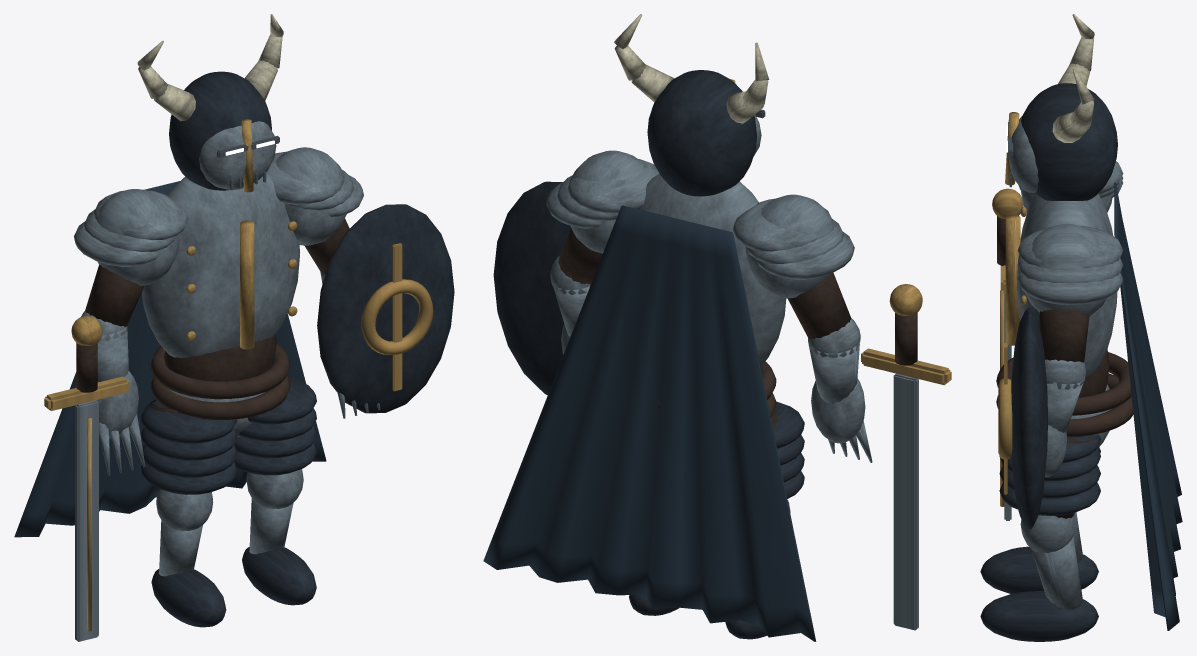
The model's file is enemy_frost_guardian.glb.
The picture shows the model from 3 angles, left to right: view 1: azimuth 30°, elevation 25°; view 2: azimuth 150°, elevation 25°; view 3: azimuth 270°, elevation 25°; orthographic projection. The views are drawn at different scales.
Visible parts, largest first — view 1: Weathered_blue_steel, Forged_black_iron.003, Weathered_blue_steel.002, Woven_midnight_wool, Forged_black_iron, Oiled_leather, Forged_black_iron.001, Antique_brass.002, Weathered_blue_steel.004, Forged_black_iron.002, Weathered_blue_steel.006, Weathered_blue_steel.001 (+8 smaller); view 2: Woven_midnight_wool, Weathered_blue_steel.002, Forged_black_iron.003, Forged_black_iron.002, Weathered_blue_steel.004, Weathered_blue_steel.006, Weathered_blue_steel, Aged_bone, Forged_black_iron, Oiled_leather.002, Antique_brass.002, Oiled_leather.004 (+1 smaller); view 3: Weathered_blue_steel.004, Woven_midnight_wool, Forged_black_iron.001, Forged_black_iron.002, Forged_black_iron.003, Weathered_blue_steel, Oiled_leather, Weathered_blue_steel.003, Antique_brass.002, Forged_black_iron, Aged_bone, Oiled_leather.004 (+6 smaller).
Part boxes in pixels (bbox=[...]): Weathered_blue_steel: bbox=[142, 173, 299, 437]; Forged_black_iron.003: bbox=[317, 204, 454, 413]; Weathered_blue_steel.002: bbox=[74, 189, 188, 475]; Woven_midnight_wool: bbox=[14, 181, 326, 537]; Forged_black_iron: bbox=[140, 400, 237, 627]; Oiled_leather: bbox=[150, 335, 290, 419]; Forged_black_iron.001: bbox=[234, 377, 316, 605]; Antique_brass.002: bbox=[44, 243, 433, 631]; Weathered_blue_steel.004: bbox=[266, 147, 380, 418]; Forged_black_iron.002: bbox=[169, 71, 271, 190]; Weathered_blue_steel.006: bbox=[75, 400, 98, 641]; Weathered_blue_steel.001: bbox=[156, 489, 213, 576]; Woven_midnight_wool: bbox=[483, 205, 816, 641]; Weathered_blue_steel.002: bbox=[733, 194, 872, 462]; Forged_black_iron.003: bbox=[493, 181, 570, 395]; Forged_black_iron.002: bbox=[647, 70, 756, 196]; Weathered_blue_steel.004: bbox=[546, 150, 659, 354]; Weathered_blue_steel.006: bbox=[893, 373, 918, 630]; Weathered_blue_steel: bbox=[639, 174, 786, 366]; Aged_bone: bbox=[614, 14, 769, 123]; Forged_black_iron: bbox=[725, 401, 804, 639]; Oiled_leather.002: bbox=[788, 272, 851, 339]; Antique_brass.002: bbox=[861, 284, 951, 385]; Oiled_leather.004: bbox=[558, 228, 602, 284]; Weathered_blue_steel.004: bbox=[1017, 223, 1123, 509]; Woven_midnight_wool: bbox=[1114, 182, 1182, 630]; Forged_black_iron.001: bbox=[980, 434, 1100, 641]; Forged_black_iron.002: bbox=[1021, 83, 1117, 200]; Forged_black_iron.003: bbox=[1011, 308, 1047, 529]; Weathered_blue_steel: bbox=[1016, 193, 1117, 448]; Oiled_leather: bbox=[996, 349, 1133, 436]; Weathered_blue_steel.003: bbox=[1020, 515, 1082, 609]; Antique_brass.002: bbox=[992, 188, 1023, 506]; Forged_black_iron: bbox=[980, 447, 1100, 593]; Aged_bone: bbox=[1052, 14, 1094, 142]; Oiled_leather.004: bbox=[1039, 309, 1089, 362].
Bounding box in the file's own units: 4.35 × 5.64 × 1.79.
Materials: 9 (7 with a texture image).
